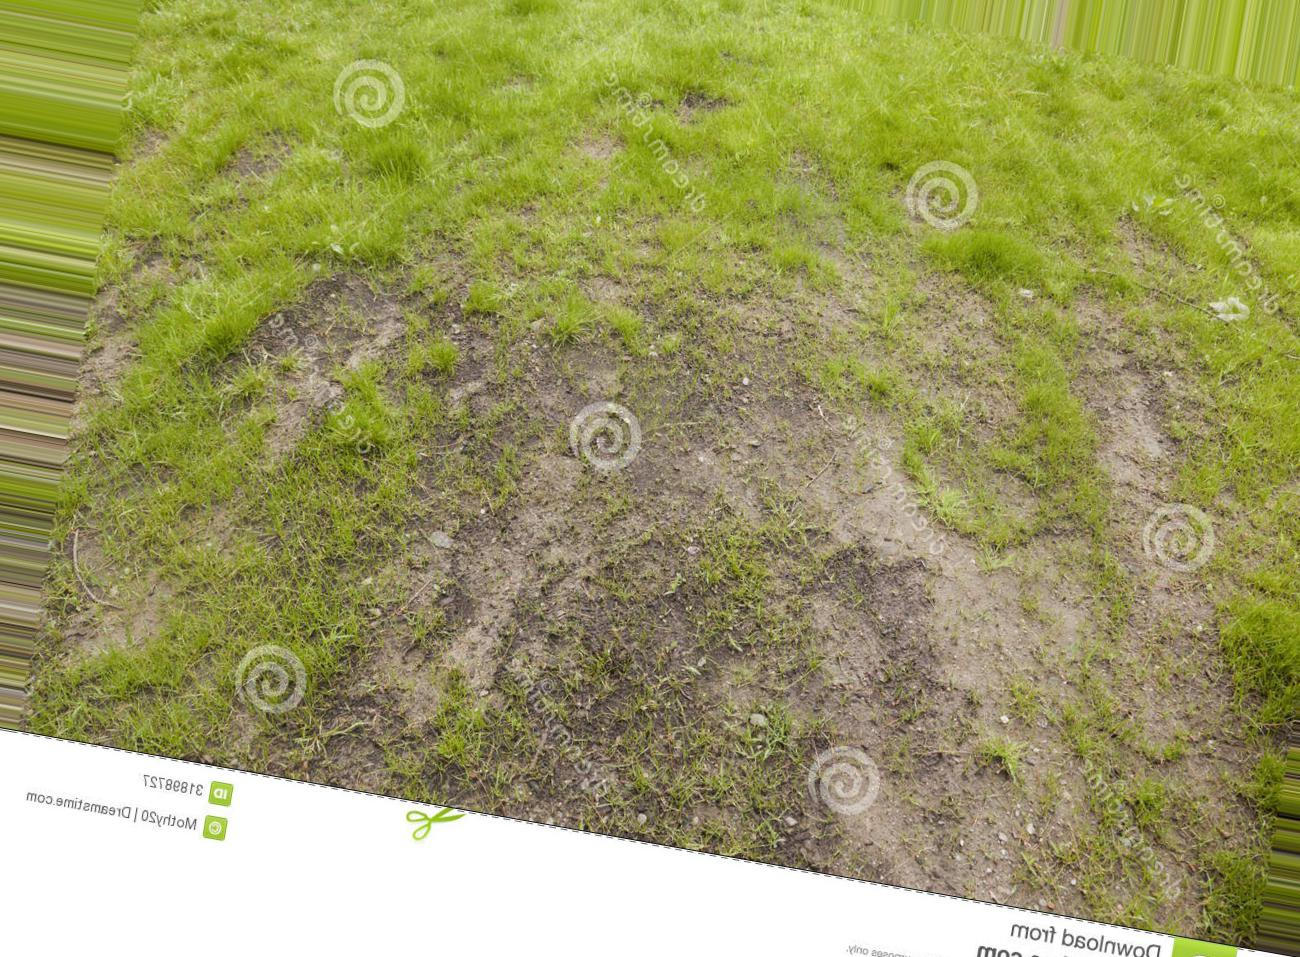patch: (488, 333, 1106, 761)
